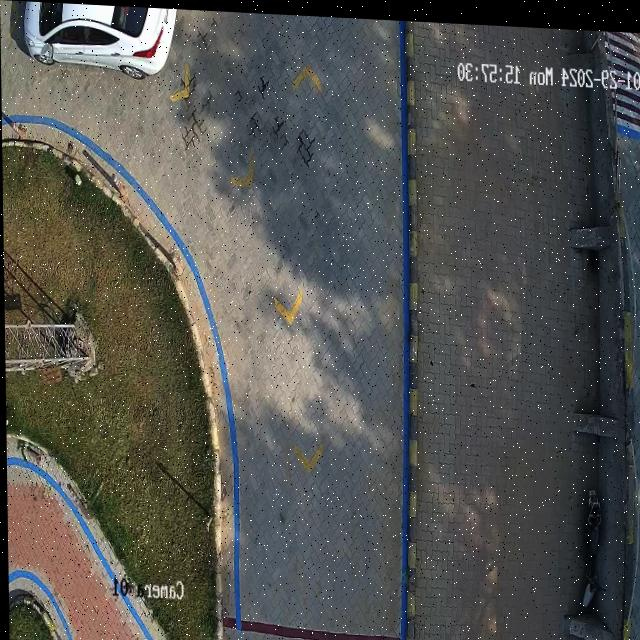car: (24, 1, 176, 77)
